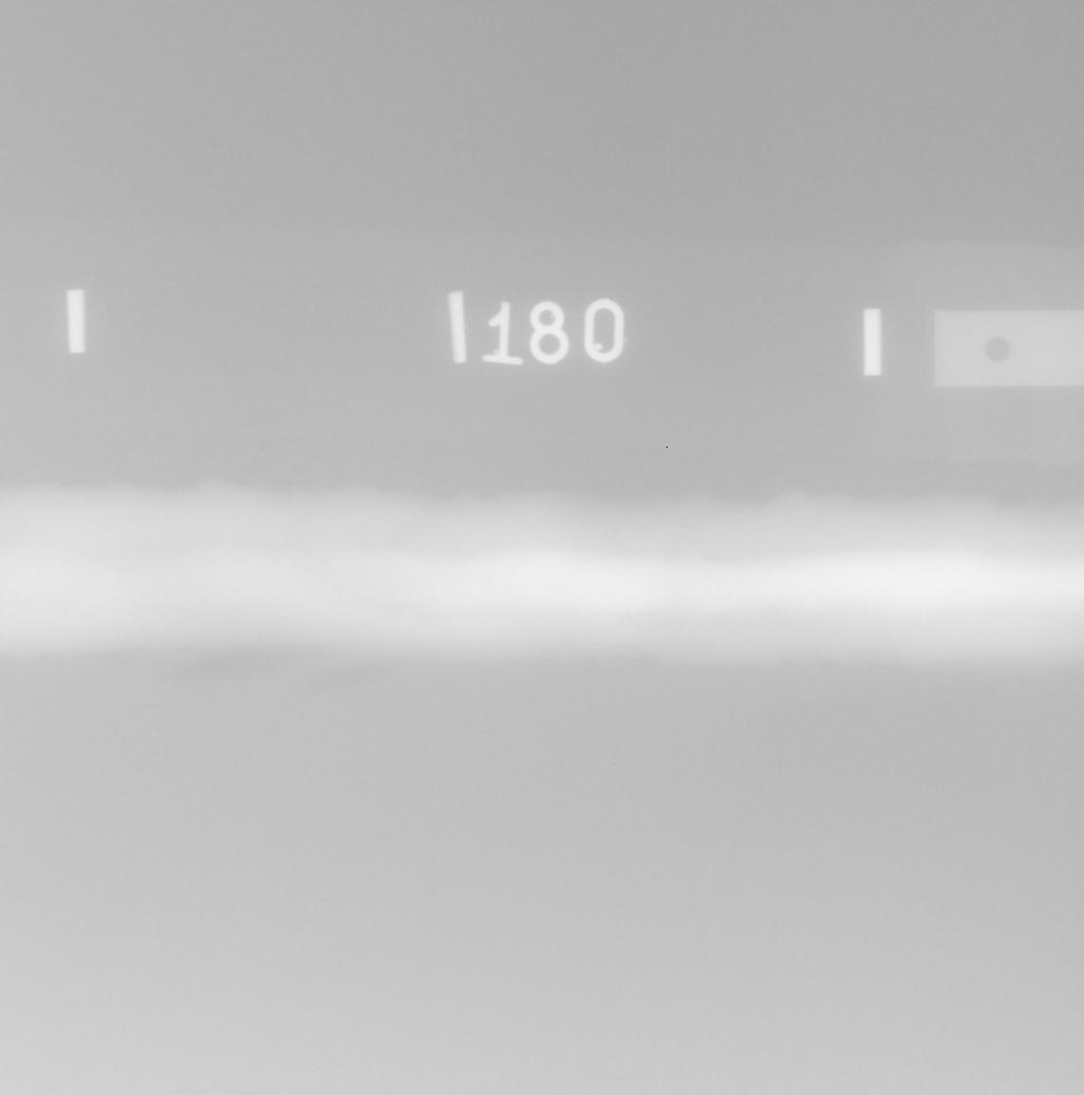Pore/Porosity: (520, 553, 526, 562)
